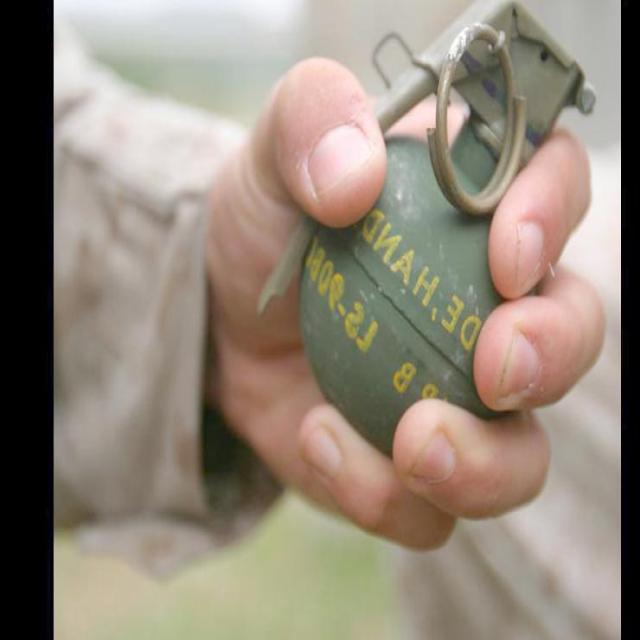grenade: (258, 1, 599, 453)
